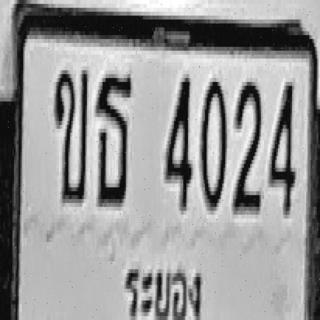A02: (54, 64, 88, 201)
A24: (95, 68, 132, 205)
N00: (200, 76, 227, 209)
N02: (233, 78, 261, 211)
N04: (165, 74, 193, 211), (269, 78, 295, 214)
P53: (123, 251, 203, 320)
